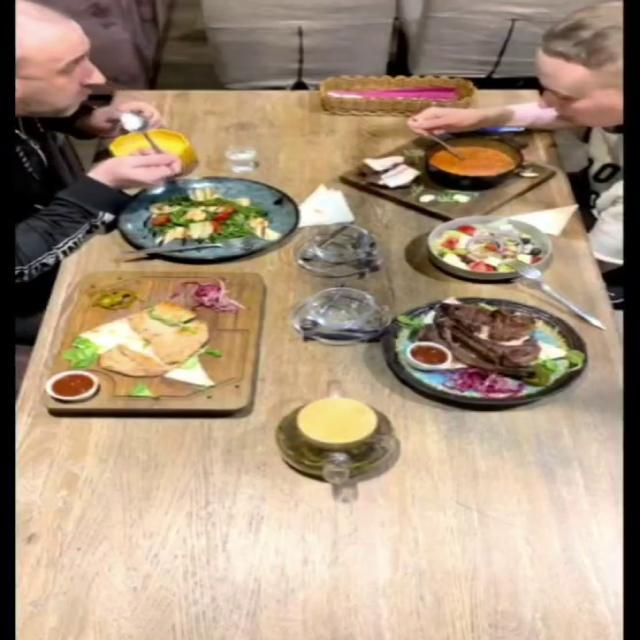meat: (35, 266, 263, 416), (380, 296, 590, 406)
salad: (114, 176, 297, 260), (426, 213, 555, 279)
soup: (335, 134, 556, 222), (107, 129, 198, 176)
tea: (270, 394, 394, 482)
